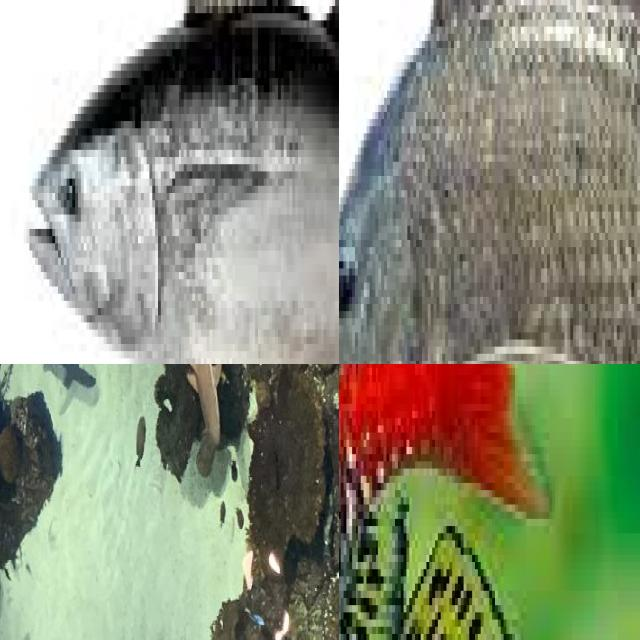fish: (1, 0, 339, 364), (352, 0, 640, 364)
